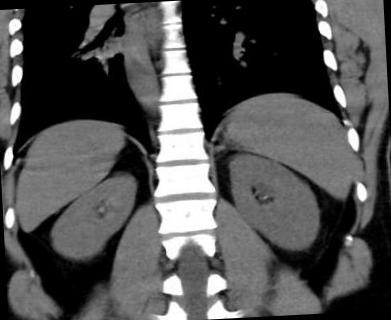Tas_Var: (260, 192, 270, 202)
